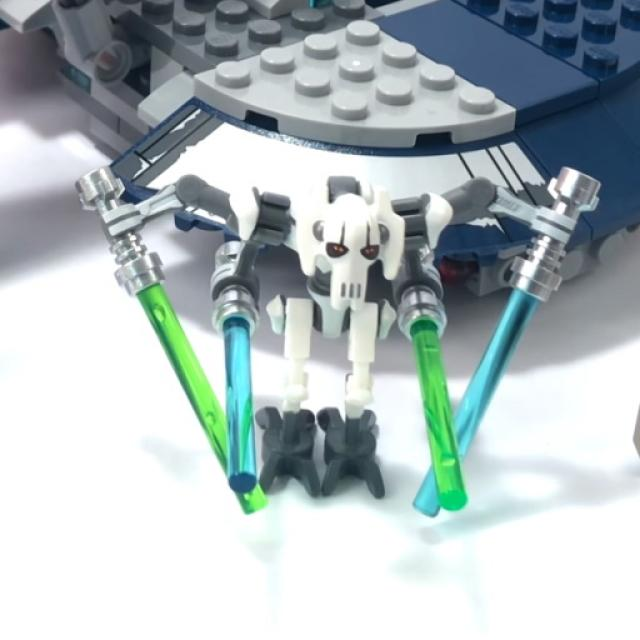Lego-Minifigures: (58, 129, 600, 551)
